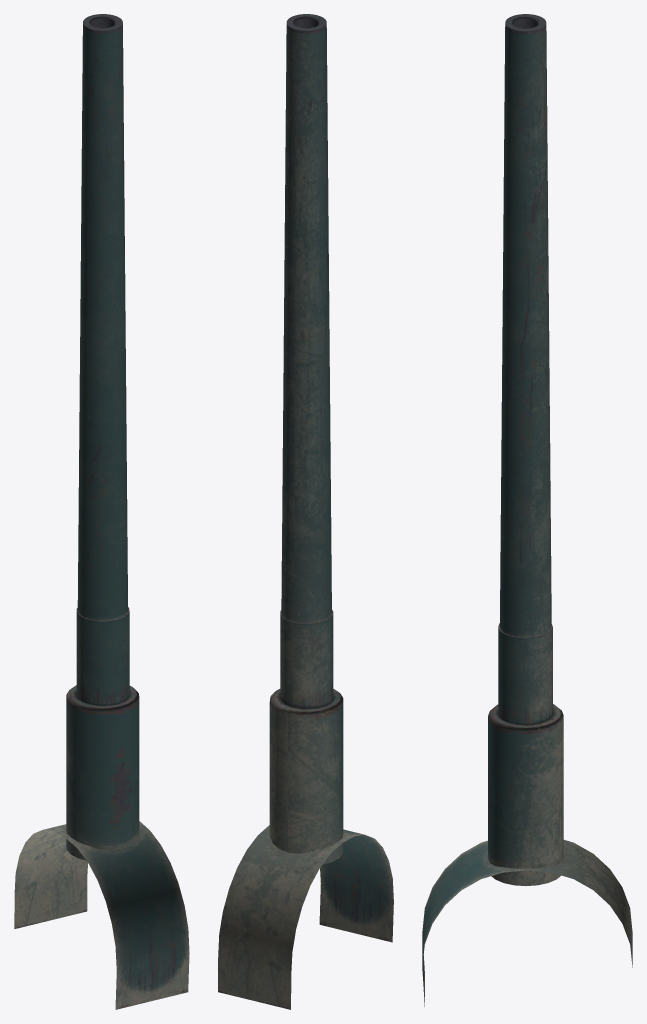
File: Gun_01.glb
3 renders of one model, left to right at view 1: azimuth 30°, elevation 25°; view 2: azimuth 150°, elevation 25°; view 3: azimuth 270°, elevation 25°, orthographic. The views are drawn at different scales.
Parts seen in each view (by area): view 1: set_0_group_0; view 2: set_0_group_0; view 3: set_0_group_0.
Part boxes in pixels (box(x1,y1,x2,y2)): set_0_group_0: box(14, 14, 189, 1009); set_0_group_0: box(218, 14, 393, 1009); set_0_group_0: box(422, 14, 632, 1006).
Size of the model in its own units: 0.5248 by 6.48 by 1.28.
1 material, 1 textured.
